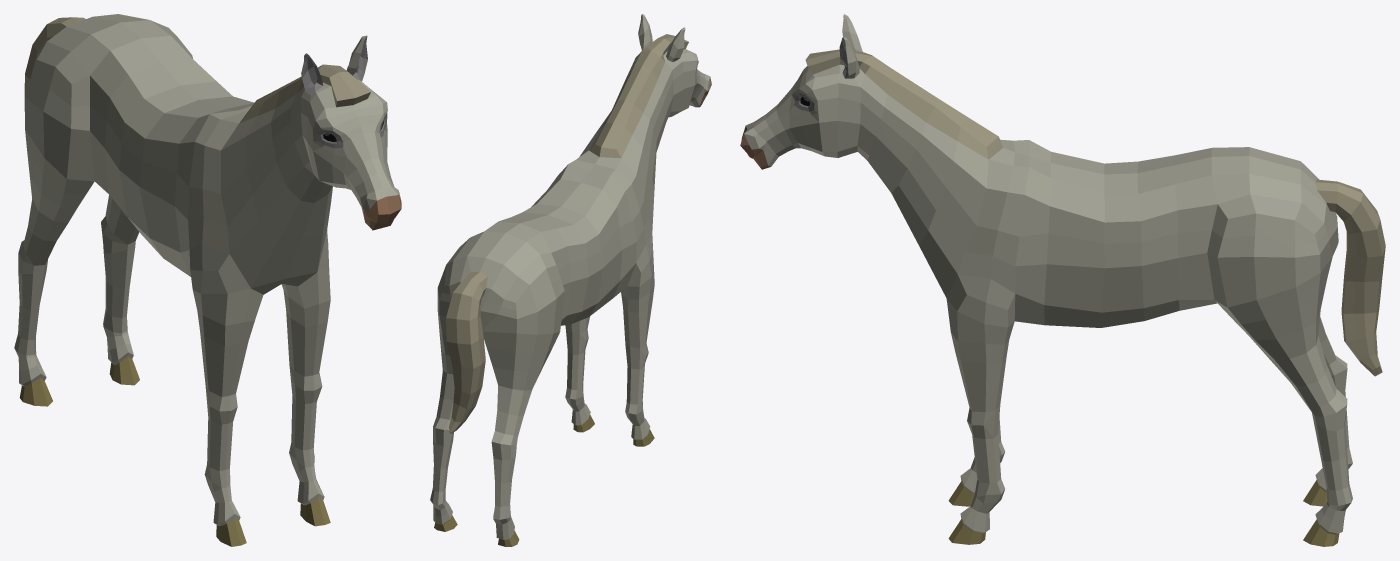
File: Horse_White.glb
3 views of the same model, side by side, from view 1: azimuth 30°, elevation 25°; view 2: azimuth 150°, elevation 25°; view 3: azimuth 270°, elevation 25° (orthographic). The views are drawn at different scales.
Visible parts, largest first — view 1: Horse_Cube; view 2: Horse_Cube; view 3: Horse_Cube.
Part boxes in pixels (<box>): Horse_Cube: <box>14,14,401,546</box>; Horse_Cube: <box>430,14,711,546</box>; Horse_Cube: <box>740,14,1385,546</box>.
Bounding box in the file's own units: 1.41 × 4.86 × 5.73.
1 material, 1 textured.
